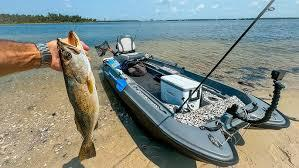fishing boat: (102, 34, 293, 168)
